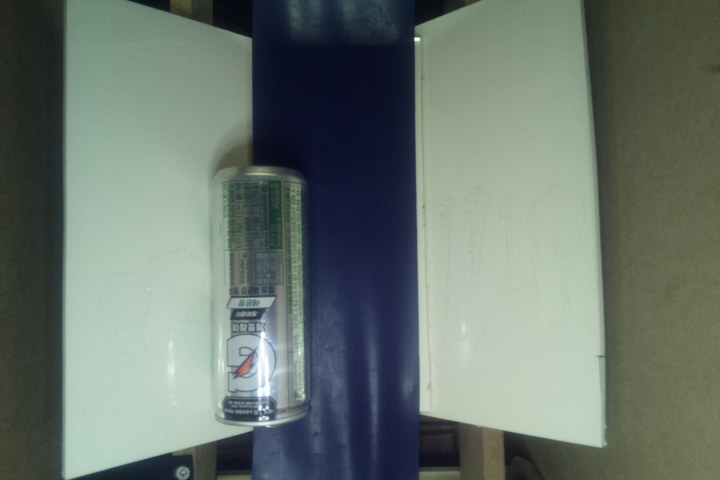can: (208, 165, 316, 429)
